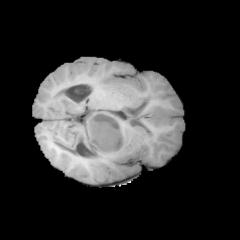glioma: (85, 111, 129, 155)
